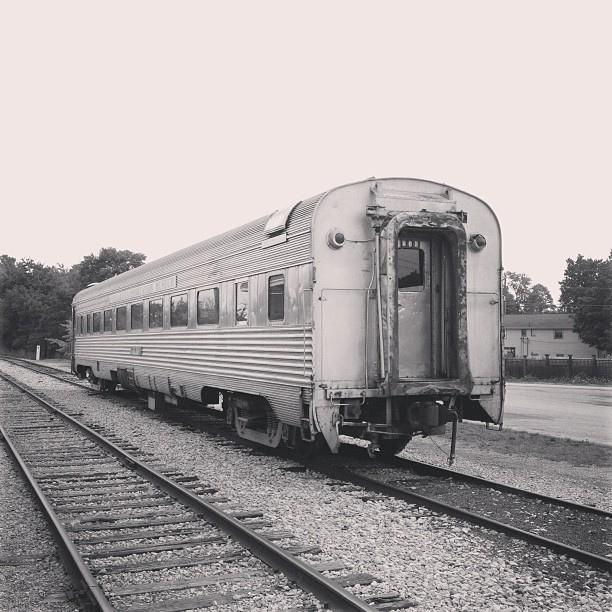Train: (68, 172, 509, 465)
